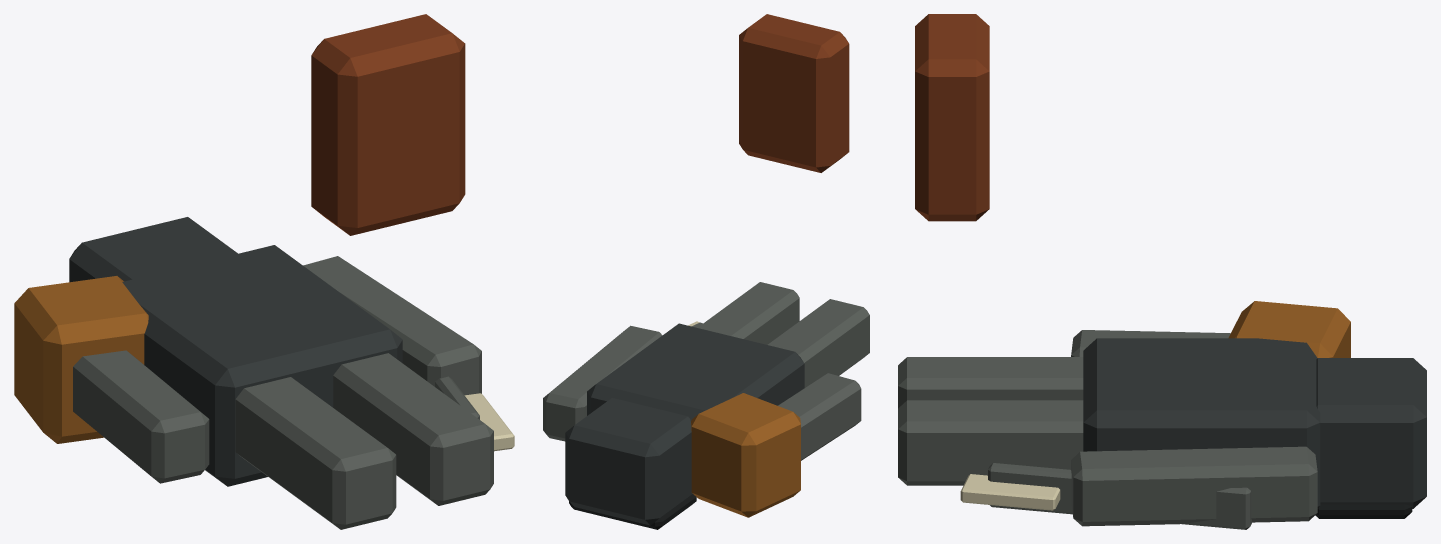
File: FoundryReaver.glb
The picture shows the model from 3 angles, left to right: view 1: azimuth 30°, elevation 25°; view 2: azimuth 150°, elevation 25°; view 3: azimuth 270°, elevation 25°; orthographic projection. The views are drawn at different scales.
Visible parts, largest first — view 1: Body, BackBoiler, LeftLeg, RightLeg, ShoulderL, LeftArm, RightArm, Head, BladeEdge, RightBlade; view 2: BackBoiler, Head, Body, ShoulderL, LeftLeg, RightArm, LeftArm, RightLeg, HeadMask; view 3: Body, RightArm, Head, BackBoiler, RightLeg, LeftLeg, ShoulderL, RightBlade, BladeEdge, LeftArm, HeadMask.
Part boxes in pixels (x1=…): Body: x1=122, y1=245, x2=402, y2=486; BackBoiler: x1=311, y1=14, x2=465, y2=235; LeftLeg: x1=235, y1=377, x2=396, y2=529; RightLeg: x1=333, y1=353, x2=493, y2=505; ShoulderL: x1=14, y1=276, x2=148, y2=443; LeftArm: x1=73, y1=350, x2=209, y2=483; RightArm: x1=303, y1=256, x2=481, y2=395; Head: x1=69, y1=217, x2=237, y2=282; BladeEdge: x1=464, y1=393, x2=514, y2=451; RightBlade: x1=435, y1=376, x2=479, y2=419; BackBoiler: x1=739, y1=14, x2=849, y2=172; Head: x1=565, y1=398, x2=692, y2=525; Body: x1=587, y1=323, x2=804, y2=421; ShoulderL: x1=691, y1=393, x2=800, y2=517; LeftLeg: x1=767, y1=299, x2=869, y2=387; RightArm: x1=543, y1=325, x2=662, y2=441; LeftArm: x1=778, y1=373, x2=861, y2=460; RightLeg: x1=697, y1=282, x2=799, y2=344; HeadMask: x1=569, y1=494, x2=696, y2=529; Body: x1=1083, y1=338, x2=1320, y2=507; RightArm: x1=1071, y1=446, x2=1317, y2=526; Head: x1=1316, y1=358, x2=1426, y2=508; BackBoiler: x1=915, y1=14, x2=989, y2=221; RightLeg: x1=898, y1=400, x2=1083, y2=485; LeftLeg: x1=898, y1=357, x2=1083, y2=408; ShoulderL: x1=1228, y1=301, x2=1350, y2=357; RightBlade: x1=988, y1=463, x2=1251, y2=529; BladeEdge: x1=960, y1=474, x2=1060, y2=510; LeftArm: x1=1071, y1=330, x2=1230, y2=356; HeadMask: x1=1315, y1=504, x2=1412, y2=518.
Size of the model in its own units: 4.83 by 6.86 by 7.1.
Materials: 1 (1 with a texture image).
